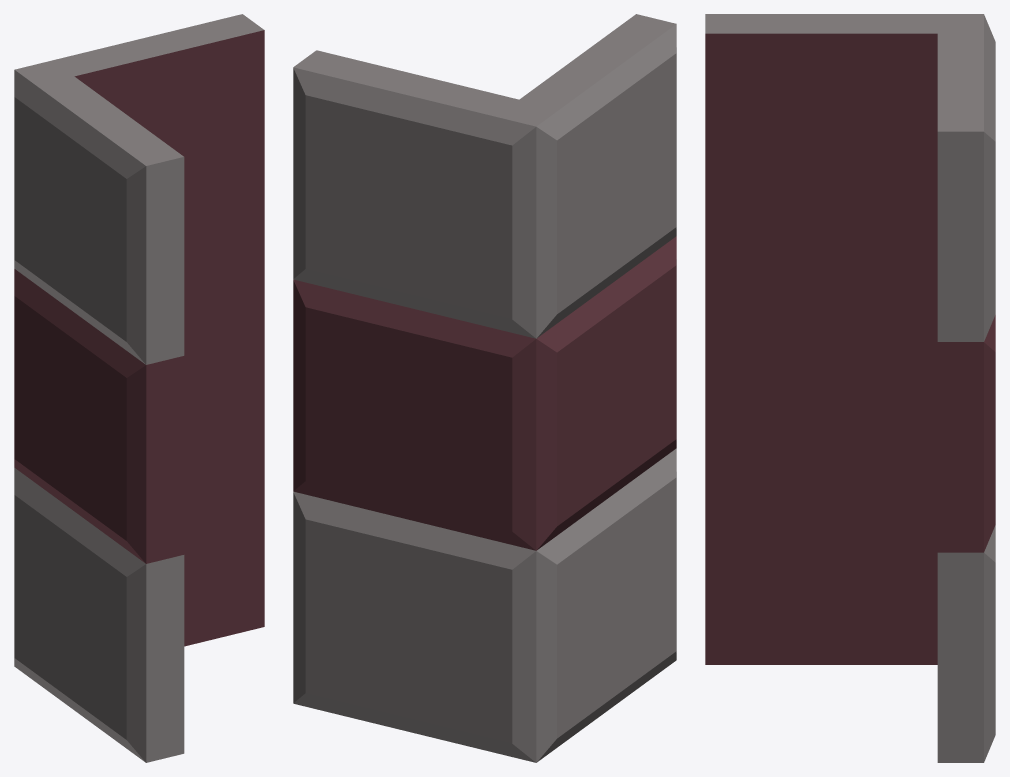
File: scifi-scifi-wall-edge-stripe.glb
3 views of the same model, side by side, from view 1: azimuth 30°, elevation 25°; view 2: azimuth 150°, elevation 25°; view 3: azimuth 270°, elevation 25° (orthographic). The views are drawn at different scales.
Visible parts, largest first — view 1: scifi-wall-edge-stripe; view 2: scifi-wall-edge-stripe; view 3: scifi-wall-edge-stripe.
Boxes of the visible parts, <box> form: scifi-wall-edge-stripe: <box>14,14,264,762</box>; scifi-wall-edge-stripe: <box>293,14,676,762</box>; scifi-wall-edge-stripe: <box>705,14,995,762</box>.
Bounding box in the file's own units: 1.25 × 3 × 1.25.
